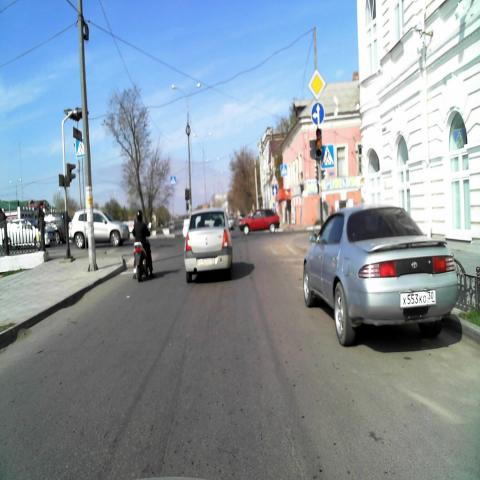4_1_5: (312, 102, 324, 127)
